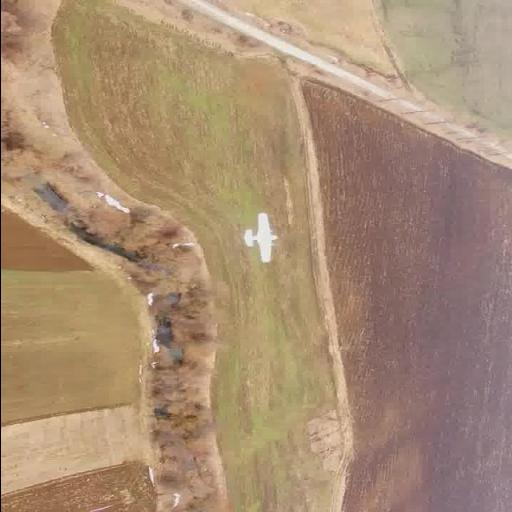uav: (230, 210, 284, 266)
